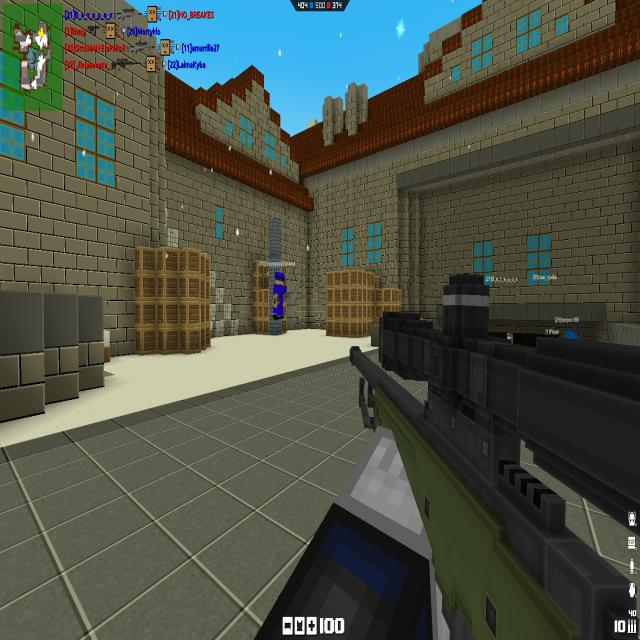player: (272, 271, 287, 322)
